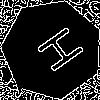H: (27, 24, 86, 80)
